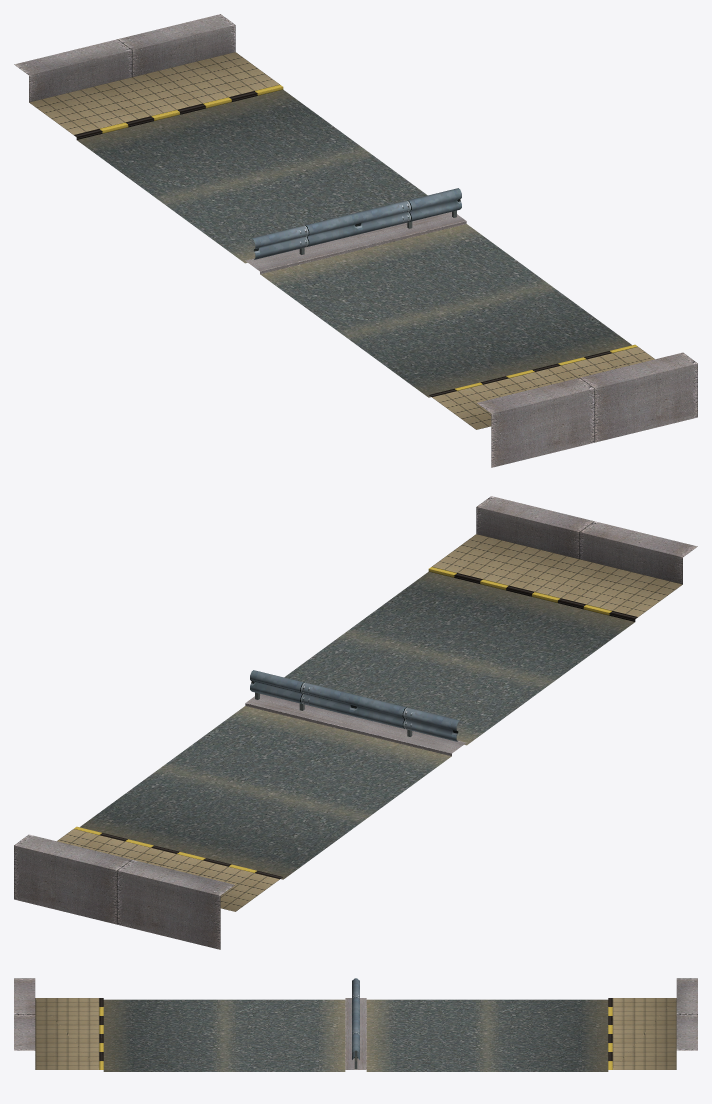
File: M2_Zone4_FlyOver1.glb
The picture shows the model from 3 angles, top to bottom: view 1: azimuth 30°, elevation 25°; view 2: azimuth 150°, elevation 25°; view 3: azimuth 270°, elevation 25°; orthographic projection. The views are drawn at different scales.
Parts seen in each view (by area): view 1: M2_ZONE4_FLYOVER1; view 2: M2_ZONE4_FLYOVER1; view 3: M2_ZONE4_FLYOVER1.
Part boxes in pixels (x1,y1,x2,y2): M2_ZONE4_FLYOVER1: (14,14,697,467); M2_ZONE4_FLYOVER1: (14,496,697,949); M2_ZONE4_FLYOVER1: (14,978,697,1071).
Size of the model in its own units: 8 by 2 by 32.
6 materials, 6 textured.
